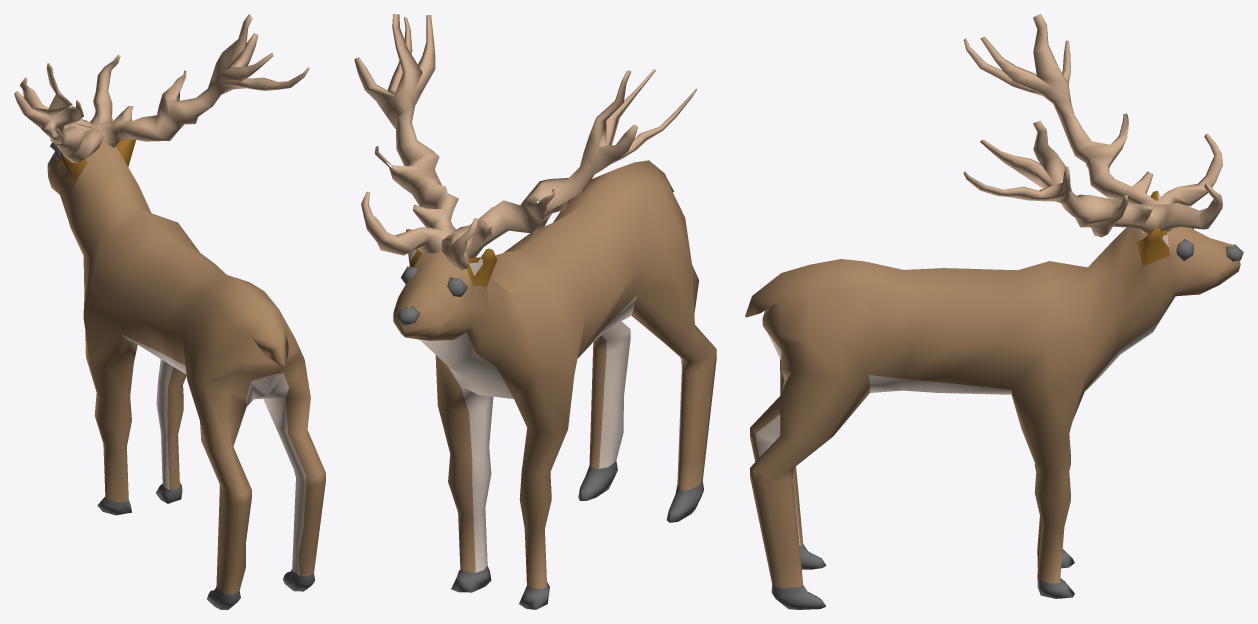
3 views of the same model, side by side, from view 1: azimuth 30°, elevation 25°; view 2: azimuth 150°, elevation 25°; view 3: azimuth 270°, elevation 25° (orthographic). The views are drawn at different scales.
Visible parts, largest first — view 1: Deer.1; view 2: Deer.1; view 3: Deer.1.
Boxes of the visible parts, <box> form: Deer.1: <box>14,14,325,609</box>; Deer.1: <box>354,14,716,609</box>; Deer.1: <box>745,14,1243,609</box>.
Bounding box in the file's own units: 228 × 411 × 358.
